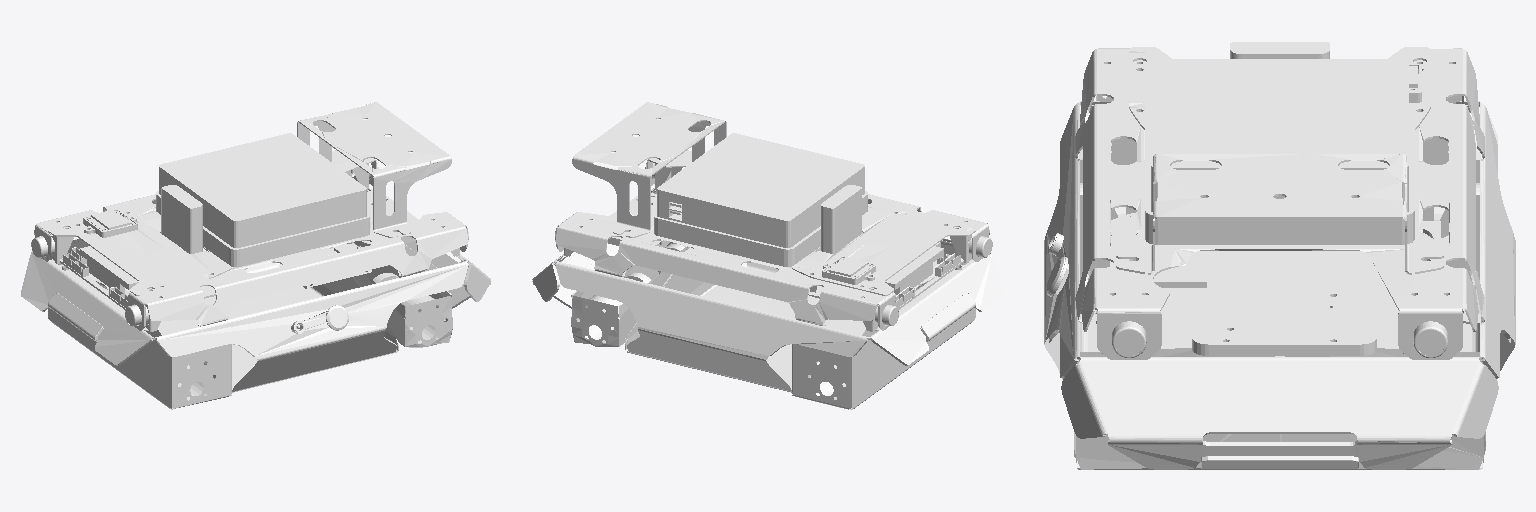
robot.urdf — mowen:
<?xml version="1.0" encoding="utf-8"?>
<!-- This URDF was automatically created by SolidWorks to URDF Exporter! Originally created by [author] ([email redacted]) 
     Commit Version: 1.6.0-4-g7f85cfe  Build Version: 1.6.7995.38578
     For more information, please see http://wiki.ros.org/sw_urdf_exporter -->
<robot
  name="mowen">
  
  <link
    name="base_footprint"/>
  
  <link
    name="base_link">
    
    <inertial>
      <origin
        xyz="-0.0718509386127836 0.00738215784490541 0.126176355791491"
        rpy="0 0 0" />
      <mass
        value="0.486218814966626" />
      <inertia
        ixx="0.00196277727666921"
        ixy="2.50447049446755E-07"
        ixz="0.000140534767811098"
        iyy="0.00457256033711368"
        iyz="2.68618064993882E-07"
        izz="0.00493927269870476" />
    </inertial>
    
    <visual>
      <origin
        xyz="0 0 0"
        rpy="0 0 0" />
      <geometry>
        <mesh
          filename="package://mowen/meshes/base_link.STL" />
      </geometry>
      <material
        name="">
        <color
          rgba="1 1 1 1" />
      </material>
    </visual>
    
    <collision>
      <origin
        xyz="0 0 0"
        rpy="0 0 0" />
      <geometry>
        <mesh
          filename="package://mowen/meshes/base_link.STL" />
      </geometry>
    </collision>
    
  </link>
  
  <joint name="base_joint" type="fixed">
        <parent link="base_footprint"/>
        <child link="base_link"/>
        <origin xyz="0.0 0.0 0.0" rpy="0 0 0"/>
  </joint>
  
</robot>

--- Render facts (derived) ---
The picture shows the robot from 3 angles, left to right: view 1: azimuth 30°, elevation 25°; view 2: azimuth 150°, elevation 25°; view 3: azimuth 270°, elevation 25°; orthographic projection.
Model mowen with 2 links and 1 joints (1 fixed), rooted at base_footprint, posed every joint at zero.
Links seen in each view (by area): view 1: base_link; view 2: base_link; view 3: base_link.
Link boxes in pixels (x1,y1,x2,y2): base_link: (21,102,491,409); base_link: (532,102,1002,409); base_link: (1044,42,1515,469).
Size in the robot's own frame: 0.3334 by 0.2187 by 0.1397 metres.
1 mesh visuals loaded from 1 distinct referenced files (1 binary STL).
